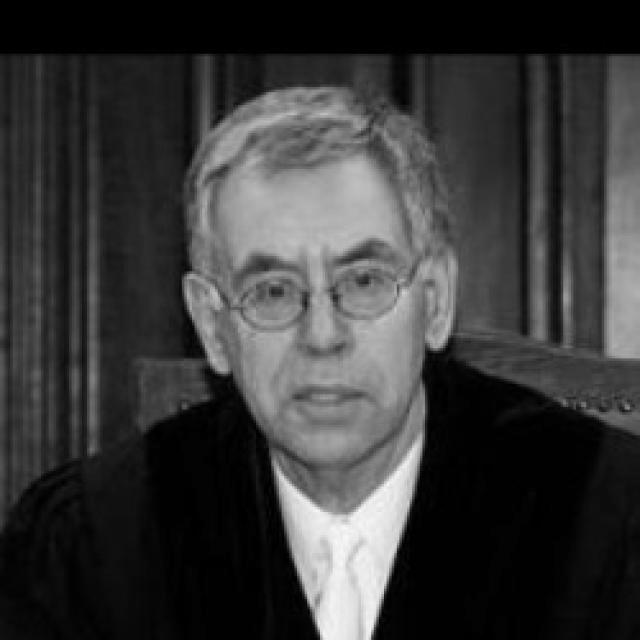real: (214, 164, 426, 466), (245, 260, 401, 322)
